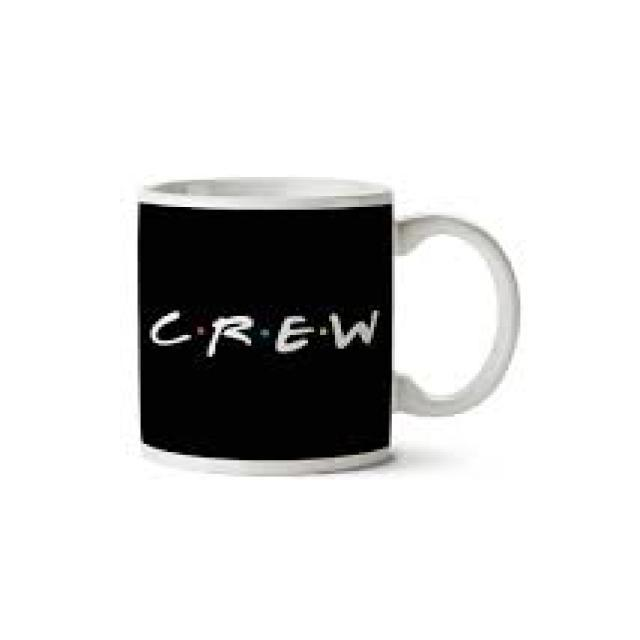taza: (137, 175, 520, 477)
